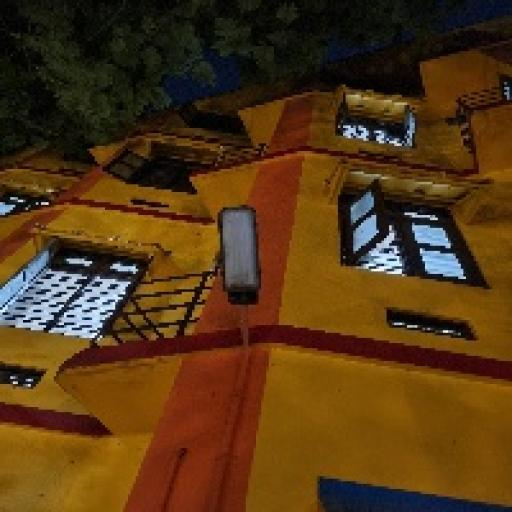Not Working: (202, 196, 278, 313)
